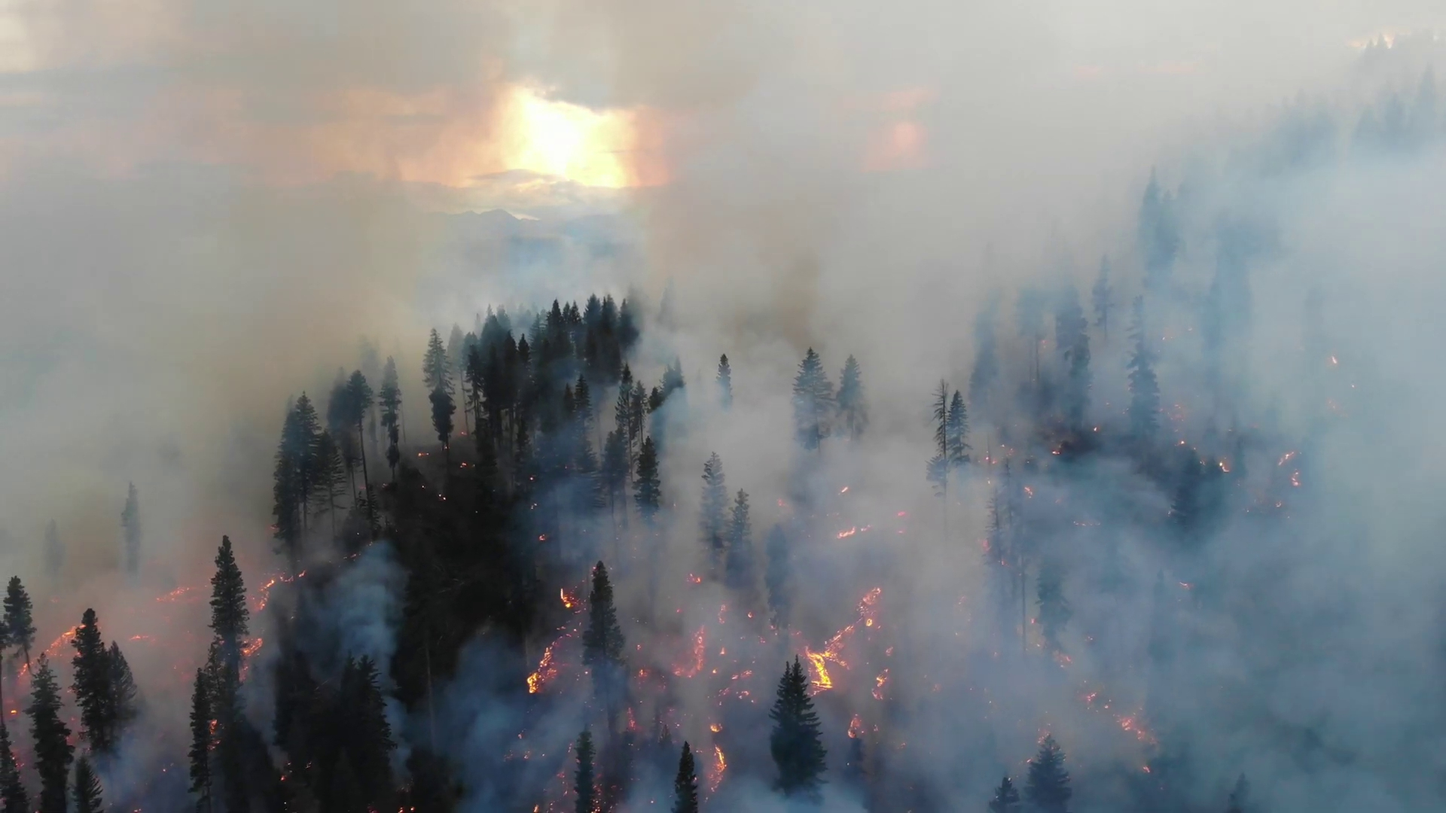forest_fire: (629, 604, 776, 708), (786, 587, 894, 702), (526, 586, 589, 696), (249, 571, 307, 611), (691, 743, 729, 795), (1113, 710, 1157, 745), (44, 626, 78, 659), (1078, 689, 1122, 713), (240, 636, 264, 678), (847, 712, 879, 738), (157, 588, 198, 602)
